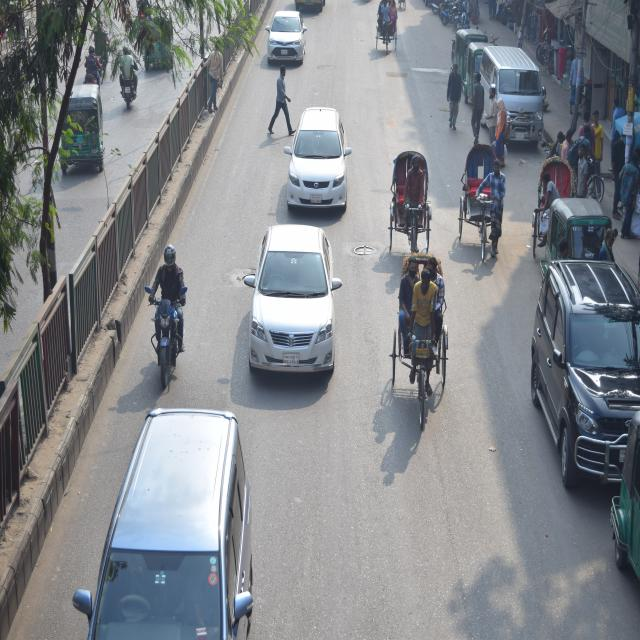car: (527, 245, 640, 499), (250, 223, 342, 388), (278, 100, 350, 216), (260, 1, 305, 71)
microbus: (78, 402, 254, 640), (477, 43, 542, 148)
motorbike: (143, 266, 187, 392), (114, 39, 142, 108)
